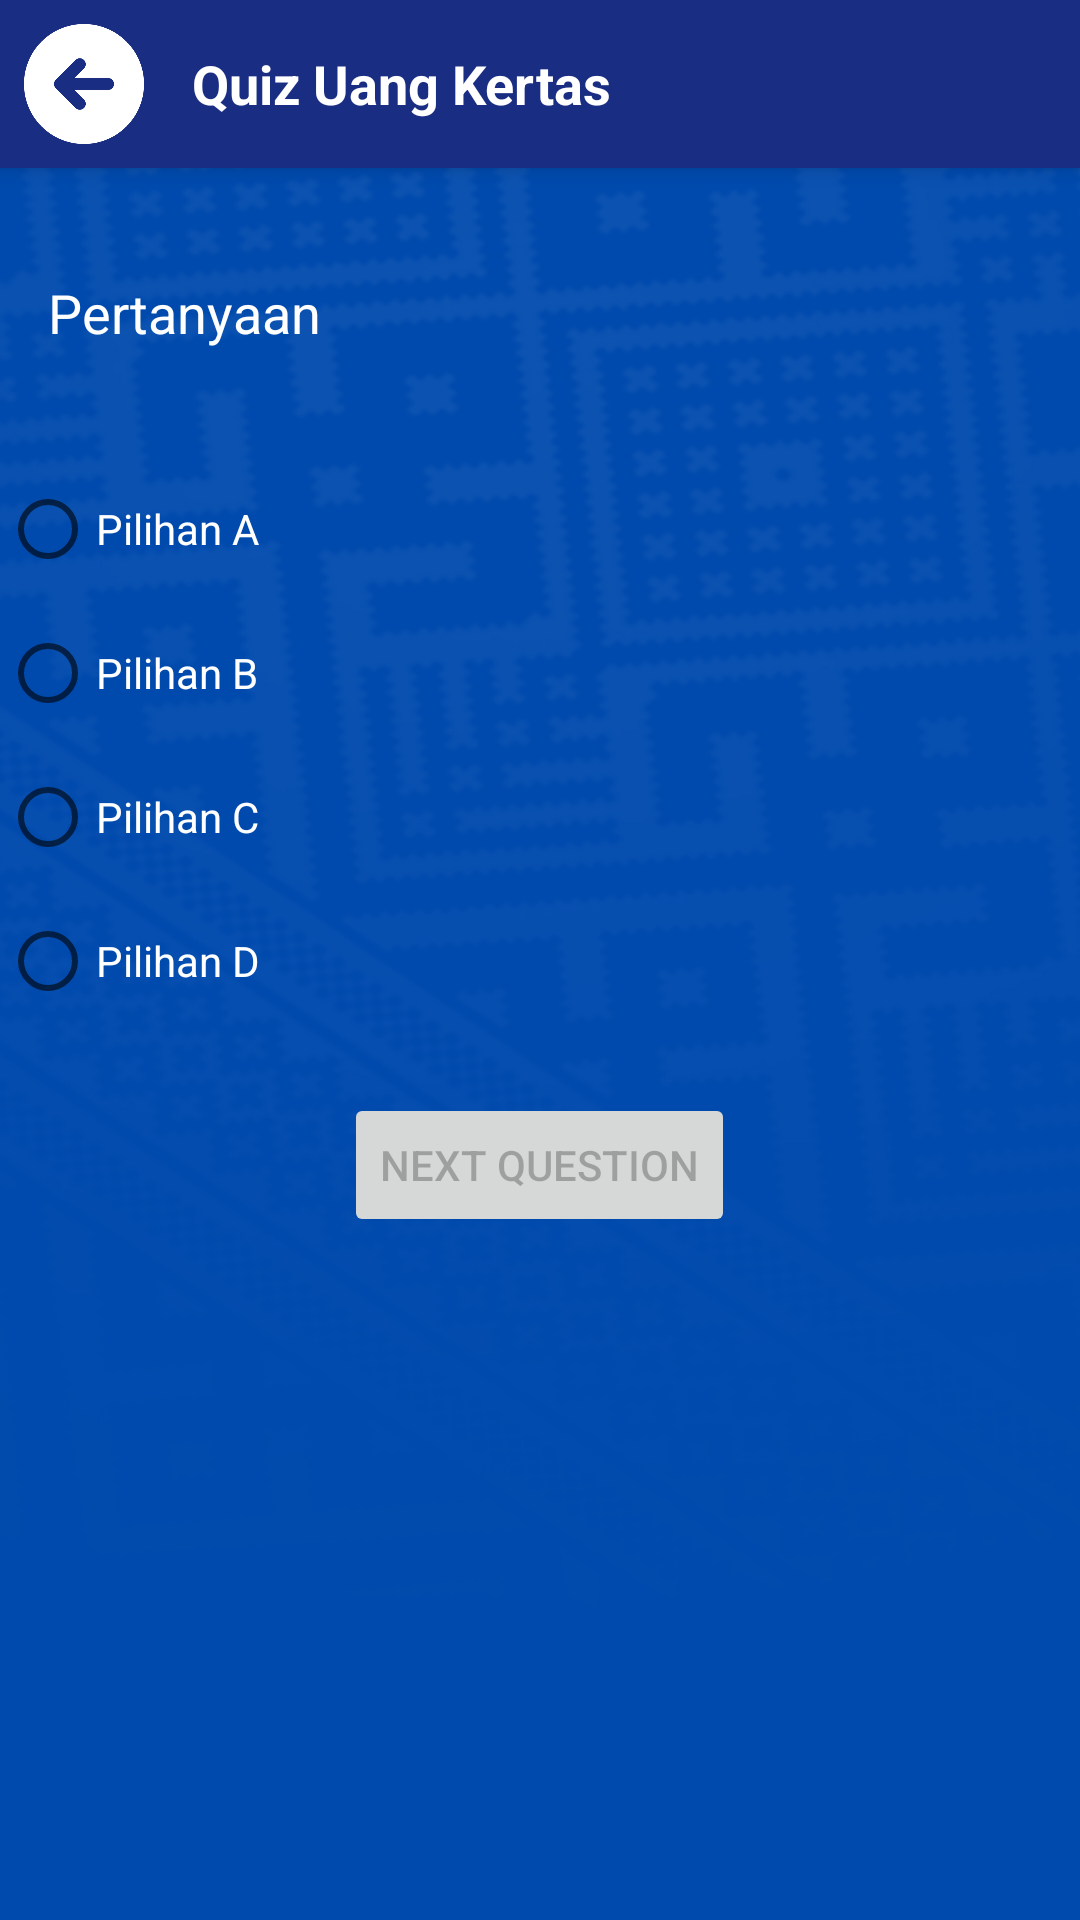

Screen size 1080*1920. Icon name, then its box in pixels as (x1=x1, y1=y1, x2=x2, y2=y2):
Tombol Kembali: (x1=24, y1=24, x2=144, y2=144)
